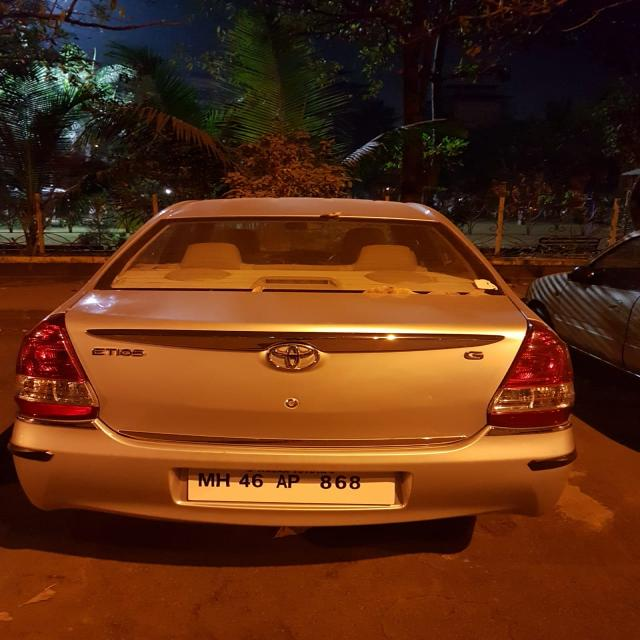Number-Plate: (181, 467, 396, 503)
